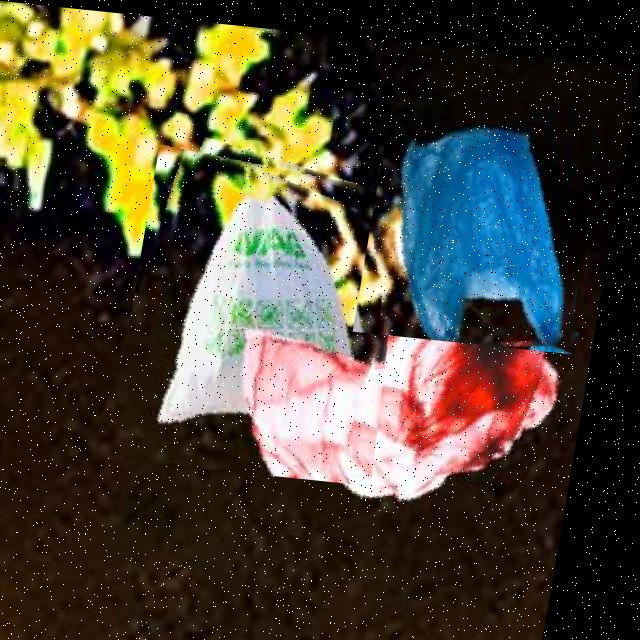plasticcover: (224, 244, 586, 574), (122, 138, 430, 475), (363, 75, 620, 340)
